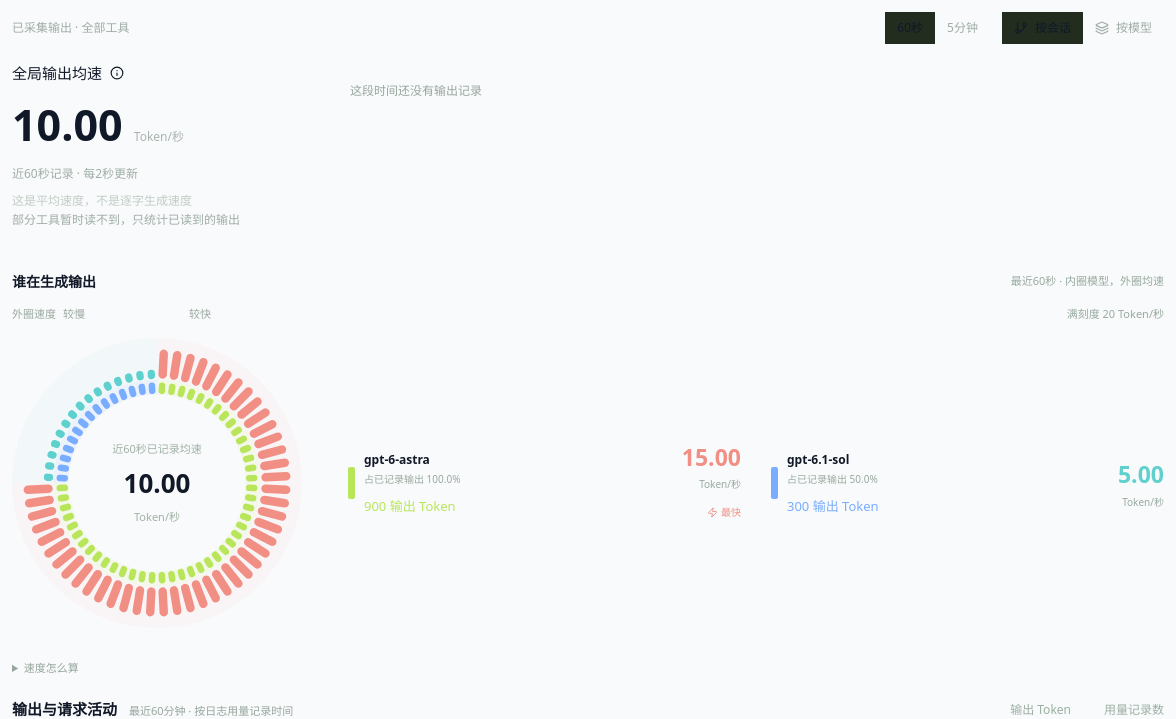
Test: UsageLivePanel › uses the model speed scale and updates it with the selected window
Expected: the element with class "speed-scale" shows "满刻度 20", [1067,306,1164,321]
Expected: the element with class "speed-scale" does not show "工具"
Click the button "5分钟".
click(963, 28)  # box [935,12,990,44]
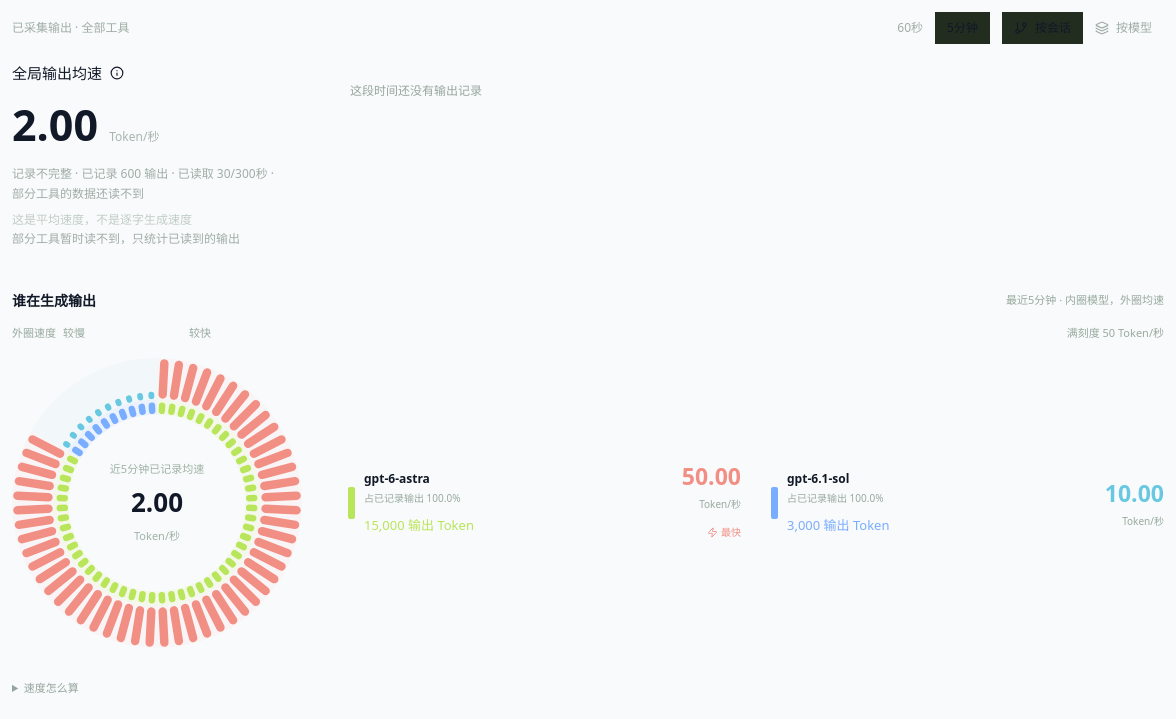
Now the element with class "speed-scale" shows "满刻度 50", box [1067,325,1164,340]
